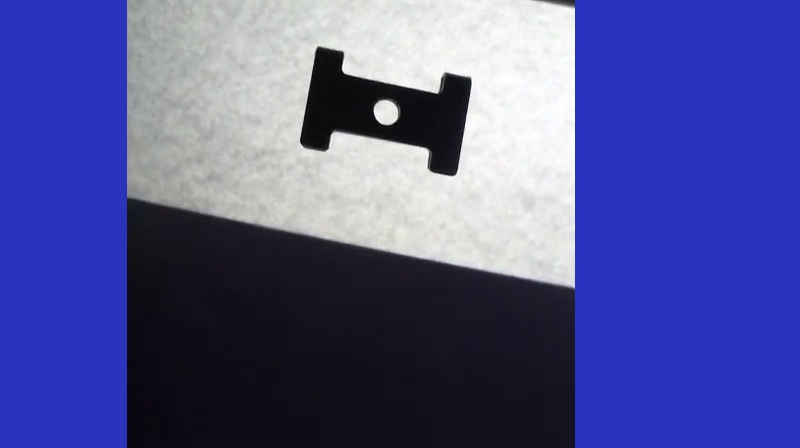O002: (297, 41, 474, 180)
